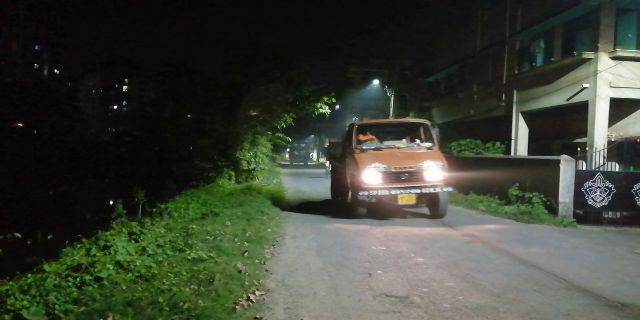Truck: (333, 115, 451, 219)
